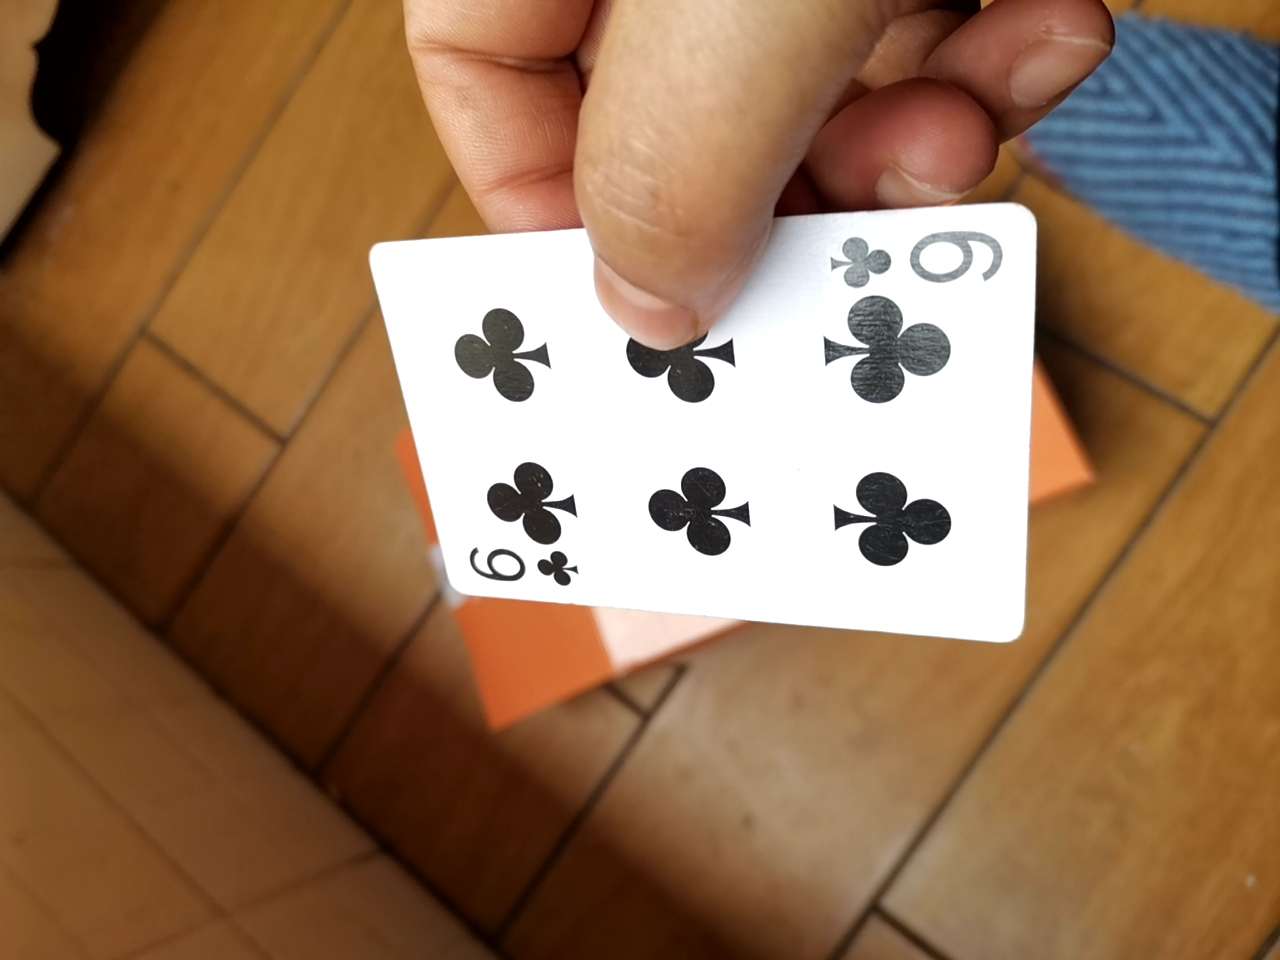mh 6: (387, 206, 1029, 657)
